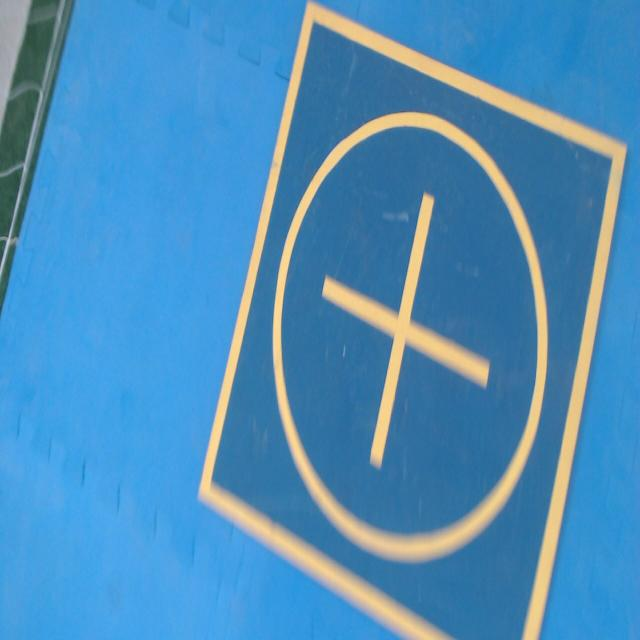base_pouso: (197, 0, 629, 639)
